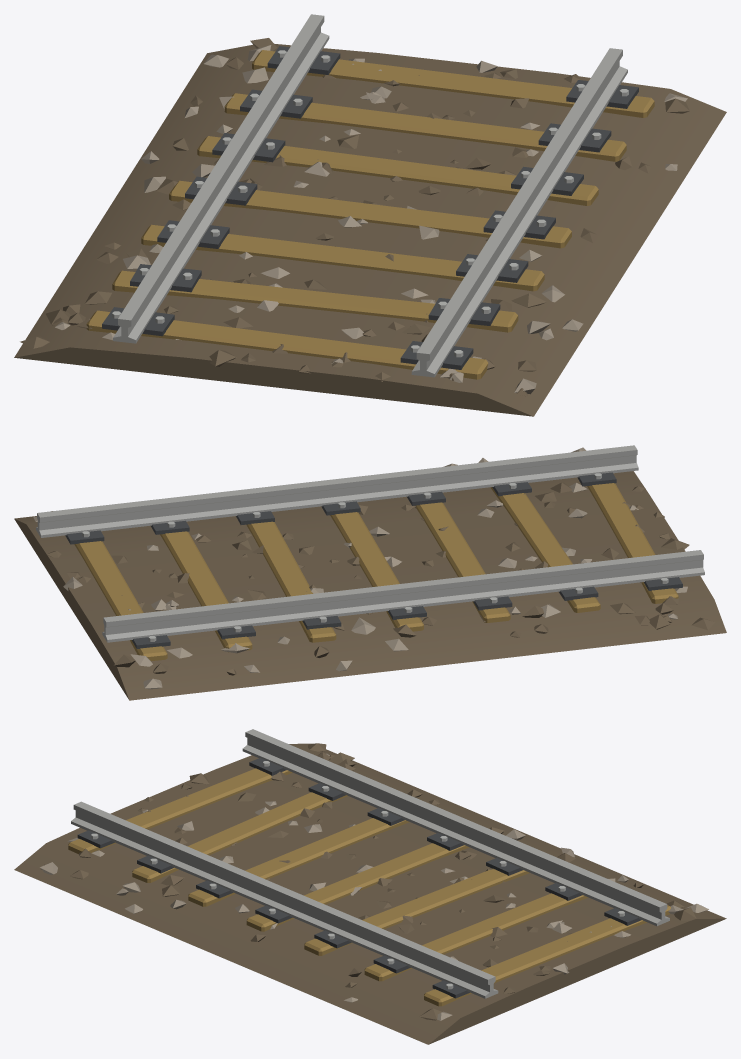
File: straight-rail-ne.glb
3 renders of one model, top to bottom at view 1: azimuth 30°, elevation 25°; view 2: azimuth 150°, elevation 25°; view 3: azimuth 270°, elevation 25°, orthographic. The views are drawn at different scales.
Visible parts, largest first — view 1: body; view 2: body; view 3: body.
Part boxes in pixels (x1,y1,x2,y2): body: (14, 14, 726, 416); body: (14, 445, 726, 700); body: (14, 729, 726, 1044).
Bounding box in the file's own units: 3.44 × 0.2172 × 3.44.
